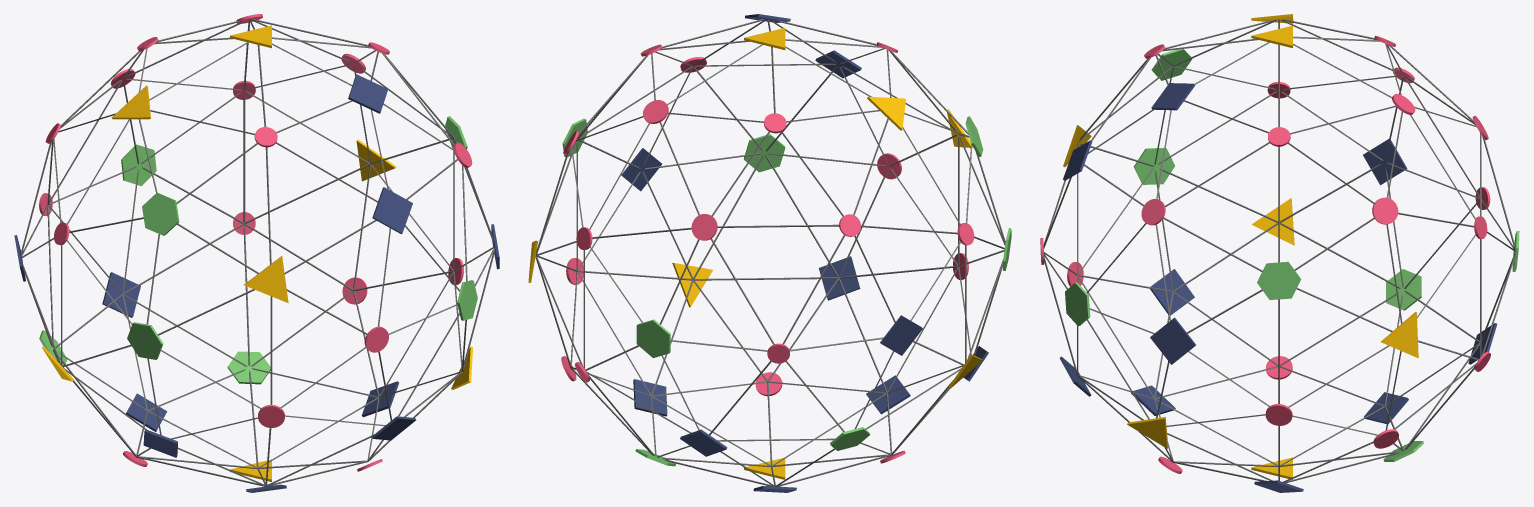
File: wtf-19-darker.glb
The picture shows the model from 3 angles, left to right: view 1: azimuth 30°, elevation 25°; view 2: azimuth 150°, elevation 25°; view 3: azimuth 270°, elevation 25°; orthographic projection.
Visible parts, largest first — view 1: wireisosphereV4.001; view 2: wireisosphereV4.001; view 3: wireisosphereV4.001.
Part boxes in pixels (x1,y1,x2,y2): wireisosphereV4.001: (14, 14, 499, 492); wireisosphereV4.001: (528, 14, 1011, 492); wireisosphereV4.001: (1040, 14, 1519, 492).
Size of the model in its own units: 3.43 by 3.46 by 3.46.
